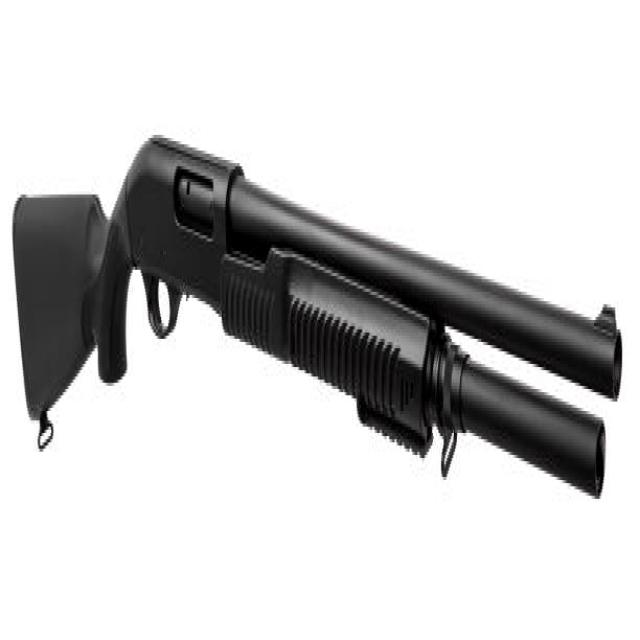rifle: (8, 122, 630, 522)
